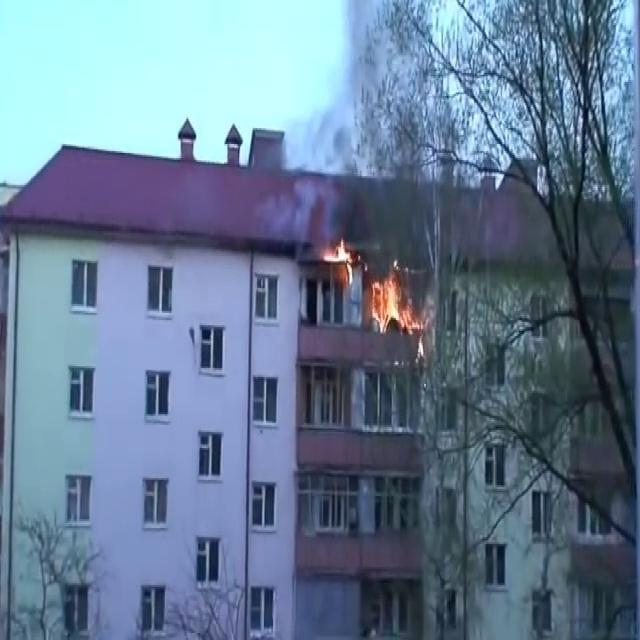Fire: (364, 260, 424, 340), (326, 228, 358, 295)
Smoke: (283, 2, 427, 265)
